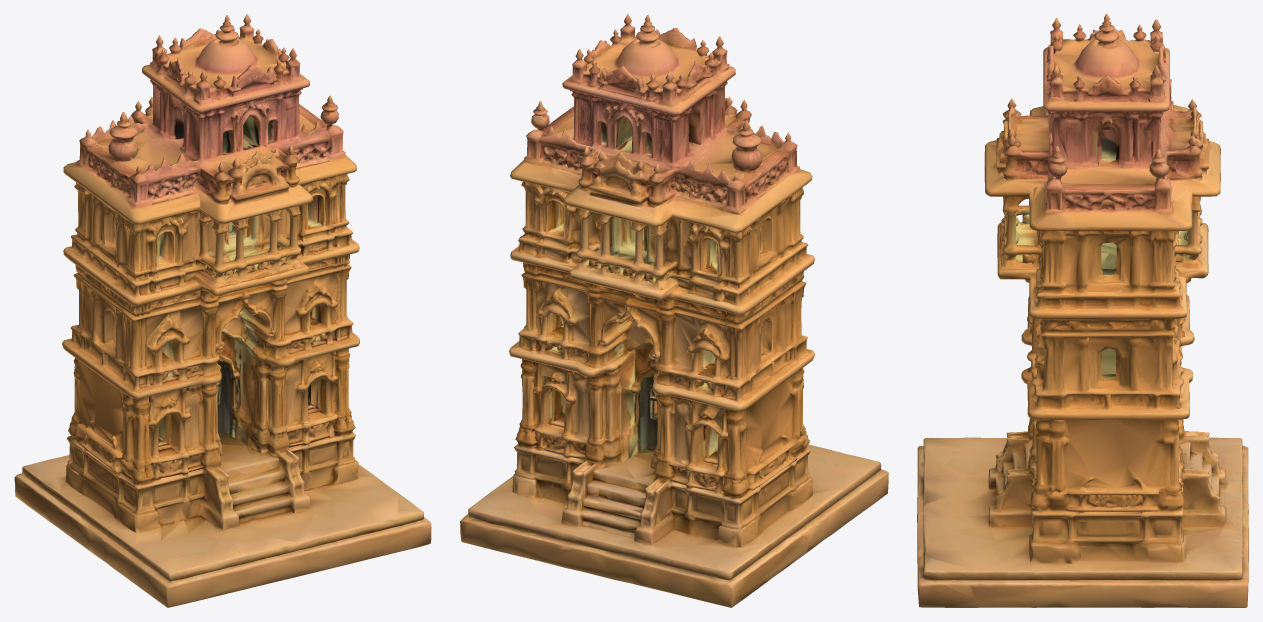
Rendered from Sandstone_Palace_Mode.glb.
The picture shows the model from 3 angles, left to right: view 1: azimuth 30°, elevation 25°; view 2: azimuth 150°, elevation 25°; view 3: azimuth 270°, elevation 25°; orthographic projection. The views are drawn at different scales.
Parts seen in each view (by area): view 1: Sandstone_Palace_Mode; view 2: Sandstone_Palace_Mode; view 3: Sandstone_Palace_Mode.
Part boxes in pixels (box(x1,y1,x2,y2)): Sandstone_Palace_Mode: box(14, 14, 431, 607); Sandstone_Palace_Mode: box(460, 14, 888, 607); Sandstone_Palace_Mode: box(917, 14, 1248, 607).
Size of the model in its own units: 1.07 by 1.9 by 1.07.
1 material, 1 textured.
